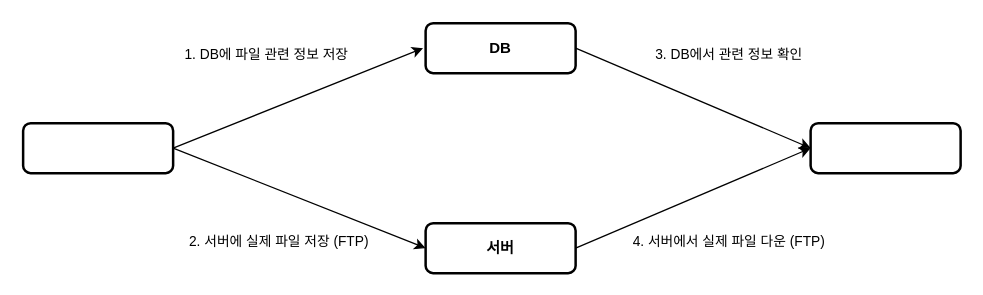
Image size: 983x295. Some labels were removed from this diagram. The centre of each missing label's shape, as x and y in pixels:
"파일 다운로드" goes at [885,147].
"파일 업로드" goes at [97,147].
